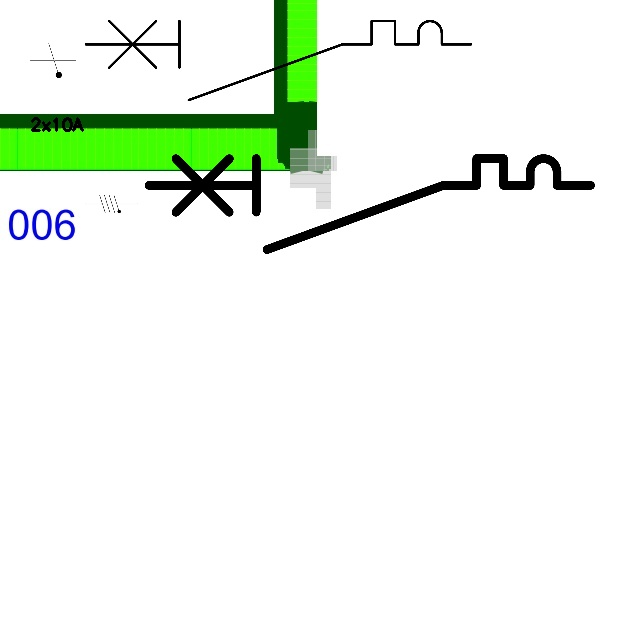interruptor_termomagnetico: (137, 147, 602, 261), (75, 11, 480, 110)
